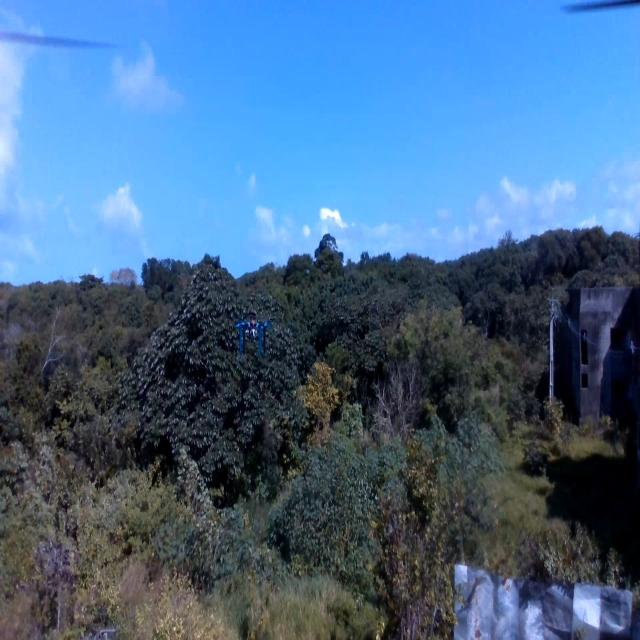-uav-: (228, 296, 280, 381)
